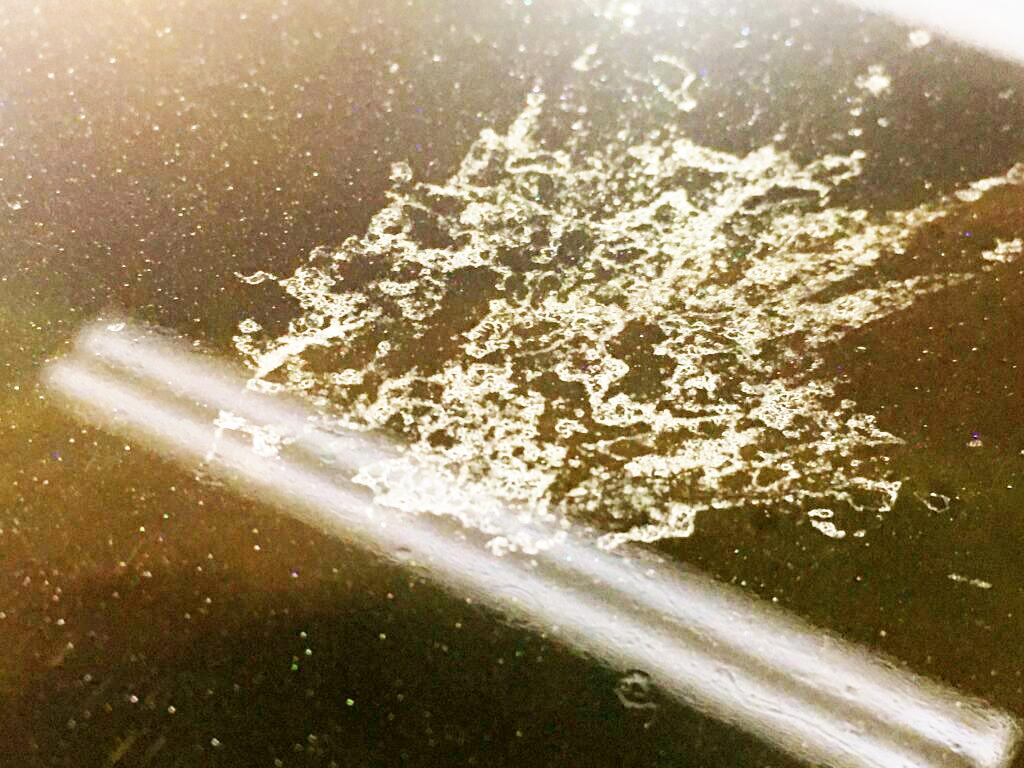Bird Poop: (233, 43, 952, 556), (214, 412, 283, 458), (956, 165, 1023, 202), (982, 239, 1023, 263), (809, 511, 845, 538)
